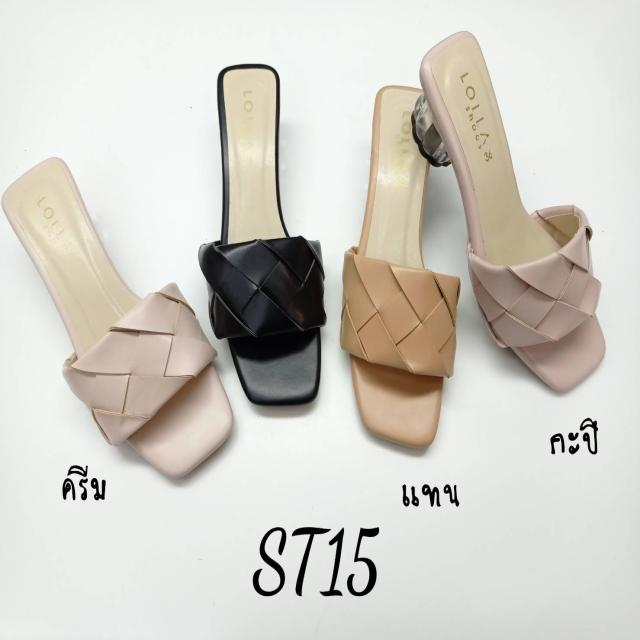black: (218, 60, 320, 402)
cream: (7, 162, 230, 478)
kapi: (426, 31, 604, 395)
tan: (348, 83, 451, 448)
